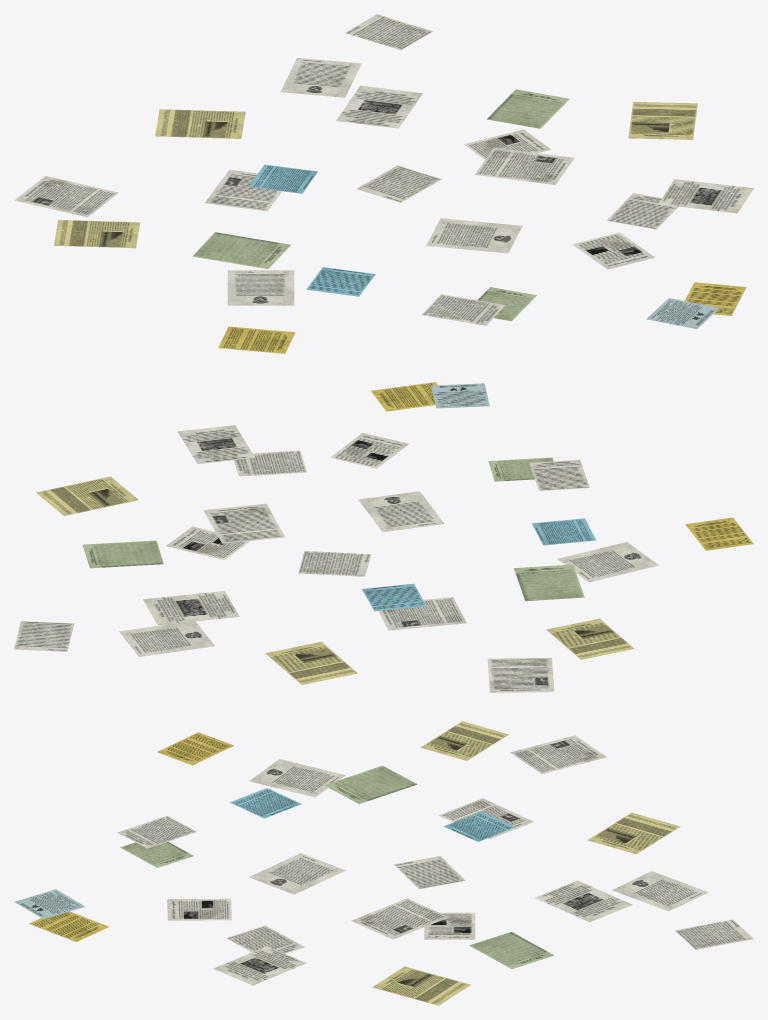
Rendered from sm39_143_paperset01a.fbx.
The picture shows the model from 3 angles, top to bottom: view 1: azimuth 30°, elevation 25°; view 2: azimuth 150°, elevation 25°; view 3: azimuth 270°, elevation 25°; orthographic projection. The views are drawn at different scales.
Visible parts, largest first — view 1: LOD_1_Group_0_Sub_1__sm36_049_Paper01A_A_Mat; view 2: LOD_1_Group_0_Sub_1__sm36_049_Paper01A_A_Mat; view 3: LOD_1_Group_0_Sub_1__sm36_049_Paper01A_A_Mat.
Part boxes in pixels (bbox=[...]): LOD_1_Group_0_Sub_1__sm36_049_Paper01A_A_Mat: bbox=[14, 14, 753, 353]; LOD_1_Group_0_Sub_1__sm36_049_Paper01A_A_Mat: bbox=[14, 382, 753, 692]; LOD_1_Group_0_Sub_1__sm36_049_Paper01A_A_Mat: bbox=[14, 721, 753, 1005].
Size of the model in its own units: 3.87 by 0.0391 by 4.28.
